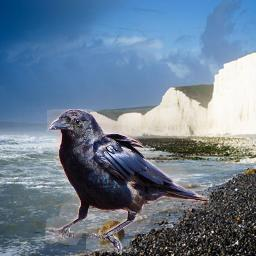Crow: (45, 109, 209, 253)
